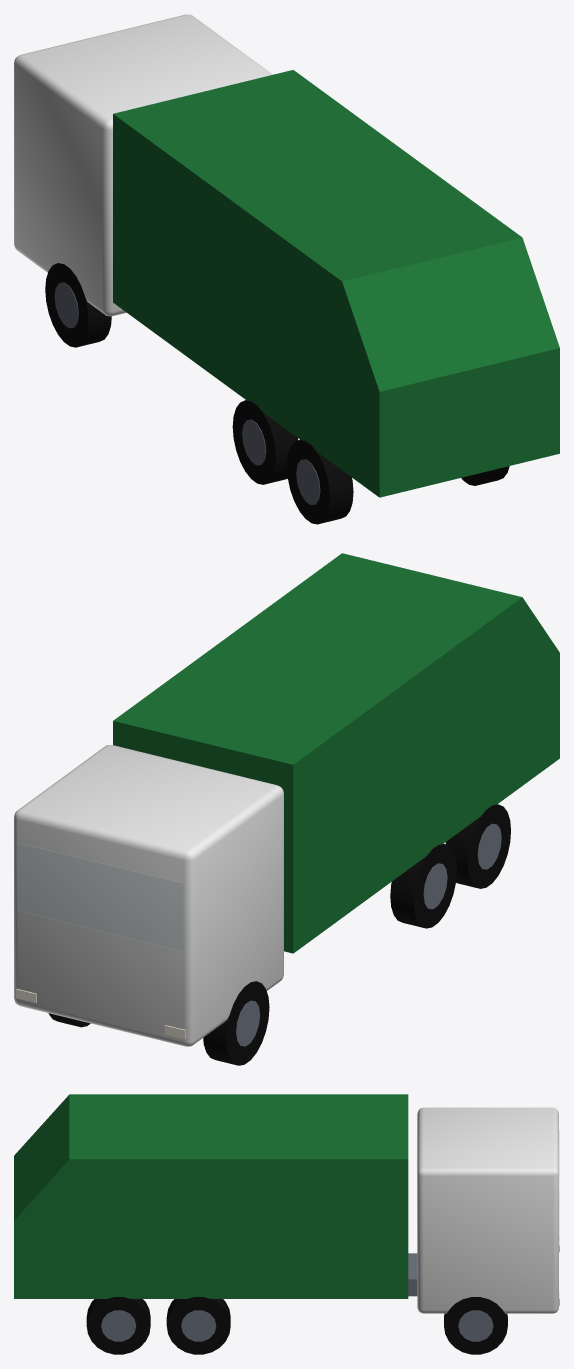
The model's file is vehicle.lorry.bin.glb.
3 views of the same model, one above another, from view 1: azimuth 30°, elevation 25°; view 2: azimuth 150°, elevation 25°; view 3: azimuth 270°, elevation 25° (orthographic). The views are drawn at different scales.
Visible parts, largest first — view 1: main__plastic_green, main__car_white, main__rubber, main__steel_painted; view 2: main__plastic_green, main__car_white, main__glass, main__rubber, main__steel_painted; view 3: main__plastic_green, main__car_white, main__rubber, main__steel_painted.
Boxes of the visible parts, x1,y1,x2,y2 form: main__plastic_green: [113, 70, 559, 497]; main__car_white: [14, 14, 272, 316]; main__rubber: [45, 263, 509, 524]; main__steel_painted: [54, 282, 320, 505]; main__plastic_green: [113, 553, 559, 953]; main__car_white: [14, 745, 283, 1046]; main__glass: [18, 843, 183, 950]; main__rubber: [48, 804, 510, 1065]; main__steel_painted: [236, 823, 501, 1046]; main__plastic_green: [14, 1094, 408, 1298]; main__car_white: [417, 1107, 558, 1313]; main__rubber: [86, 1297, 507, 1354]; main__steel_painted: [101, 1253, 493, 1341].
Size of the model in its own units: 2.52 by 3.49 by 8.87.
